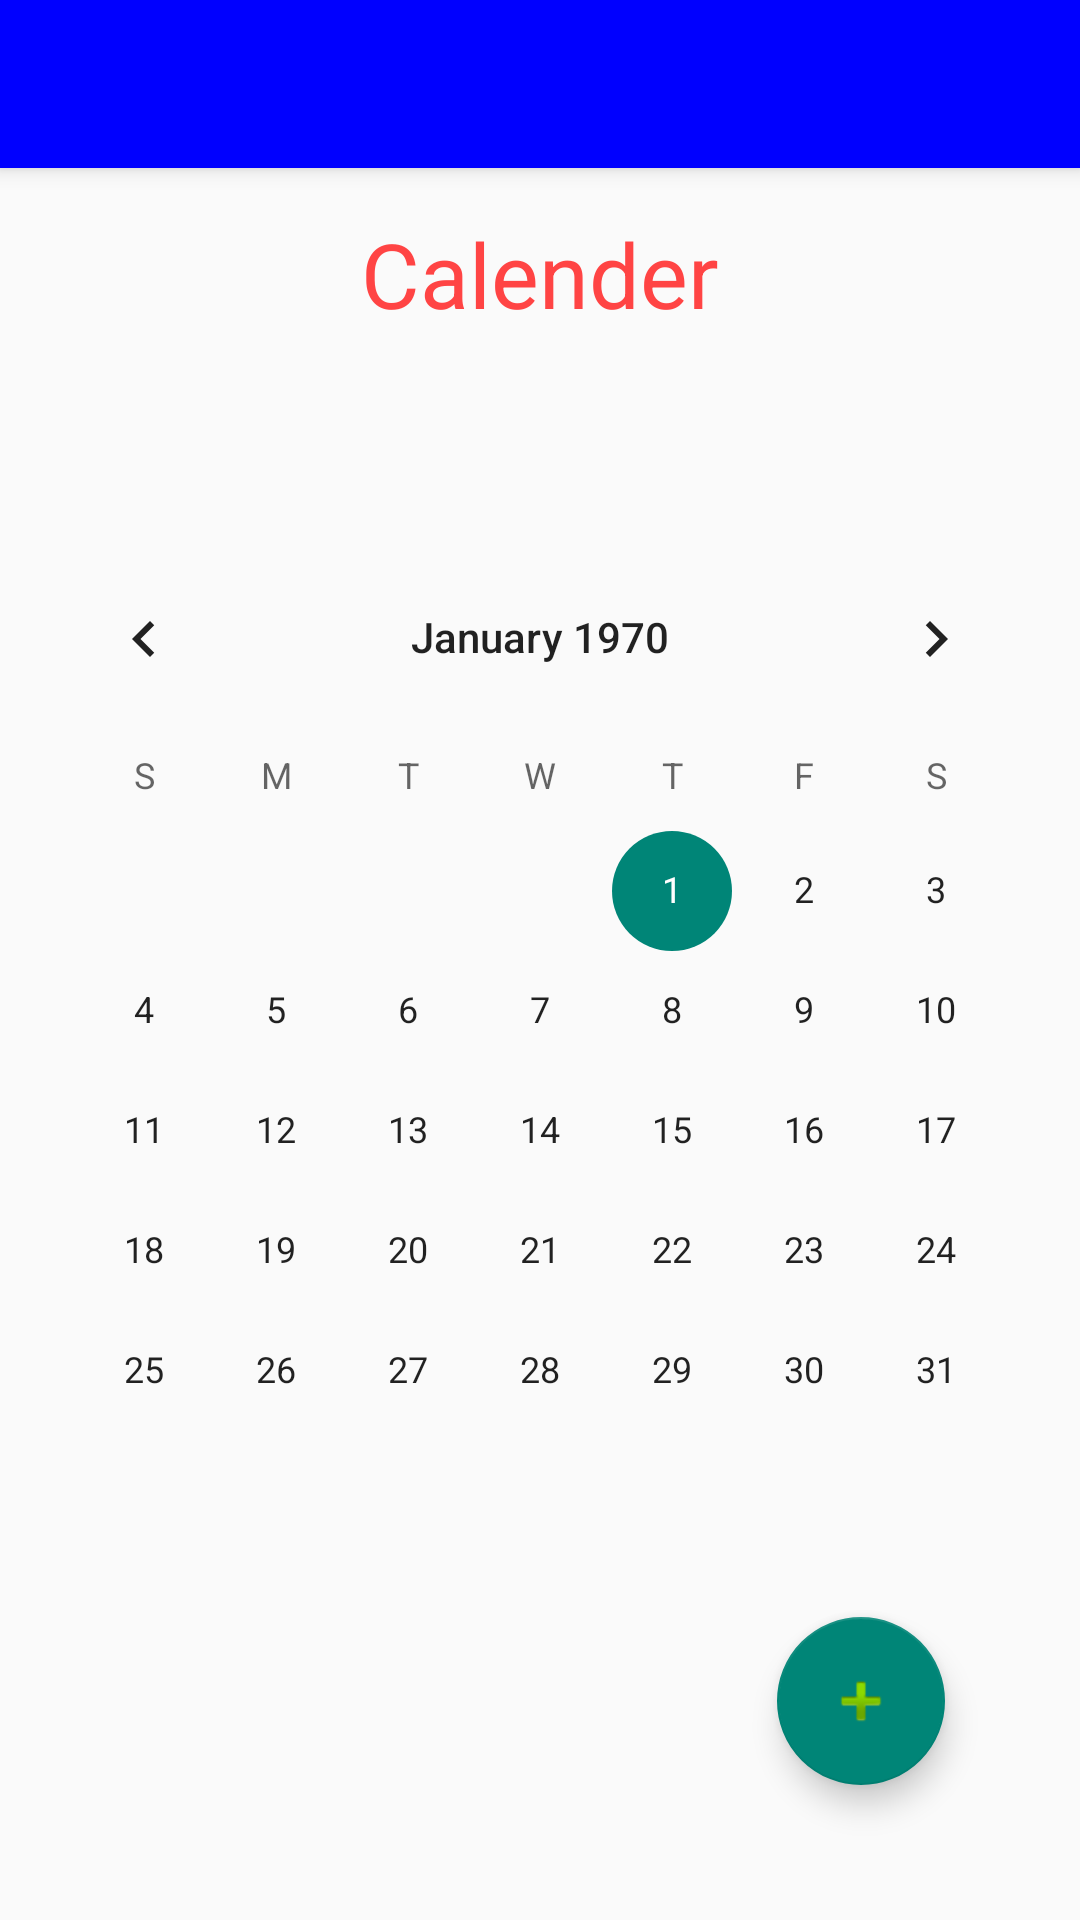

Named icons in this screenshot (1080px x 1920px) and their bounding boxes, BBox(x1, y1, x2, y2):
add: BBox(777, 1617, 945, 1785)
